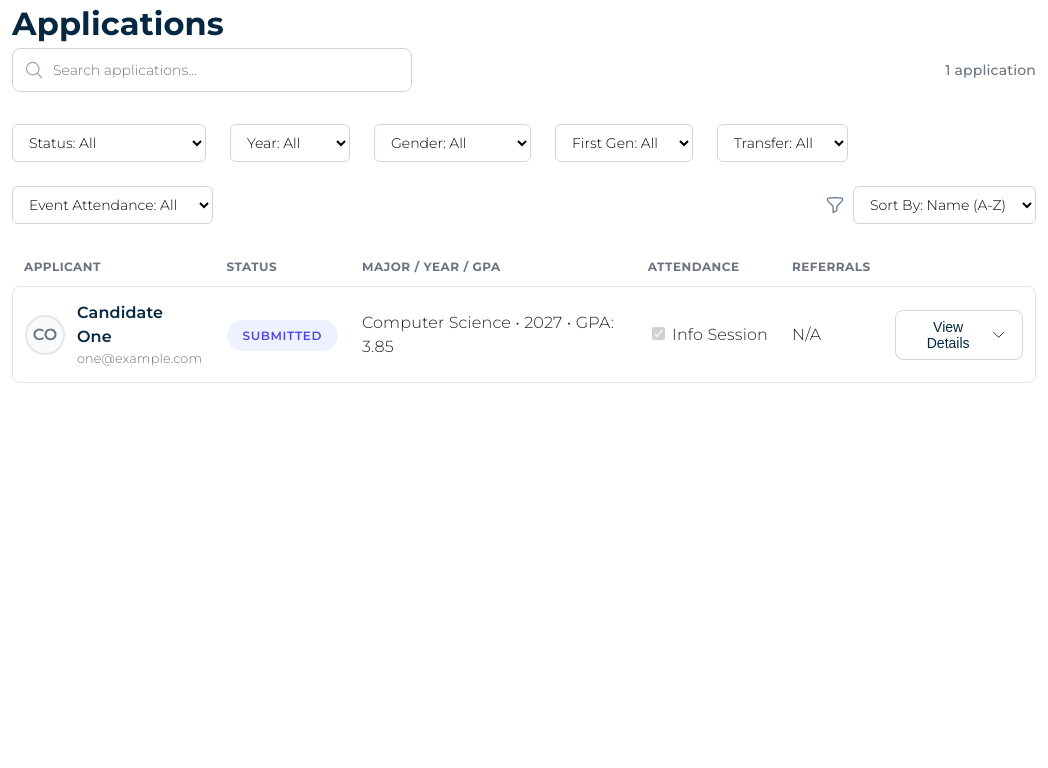
Test case: Candidates admin applications view › renders View Details and expands the detail row with review-team data
Click the button "View Details".
click(959, 335)  # box [895,310,1023,360]
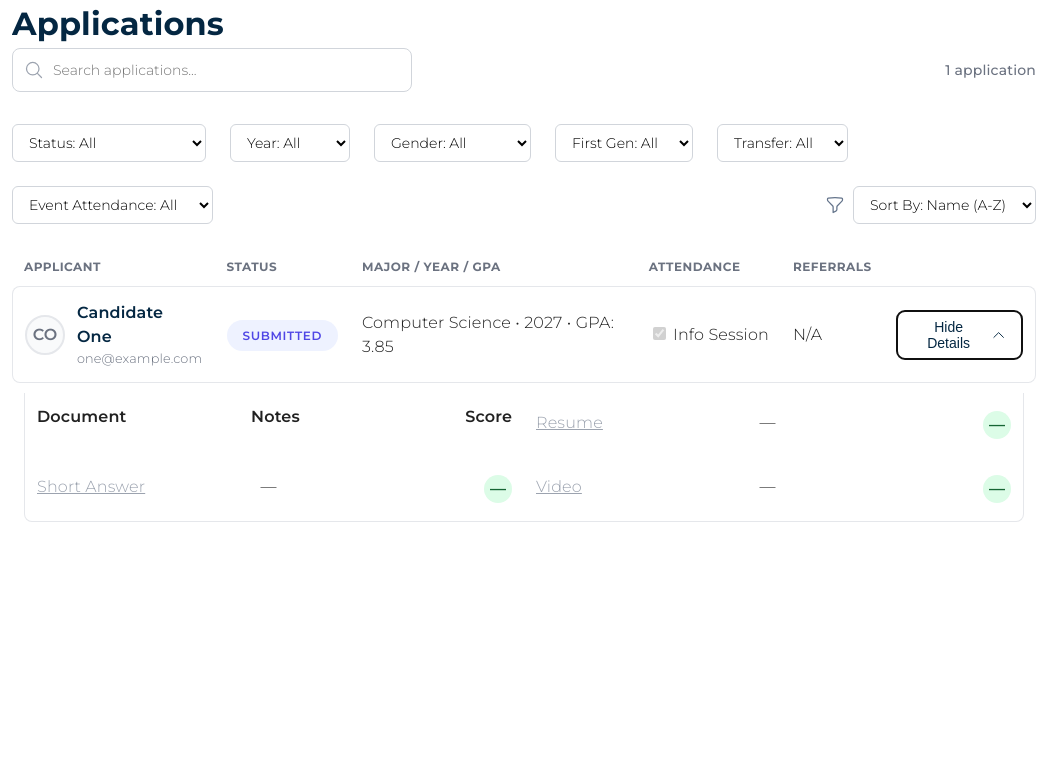
Result: the link "Resume" is shown at [536,411,603,435]
Result: the link "Short Answer" is shown at [37,475,145,499]
Result: the link "Video" is shown at [536,475,582,499]
